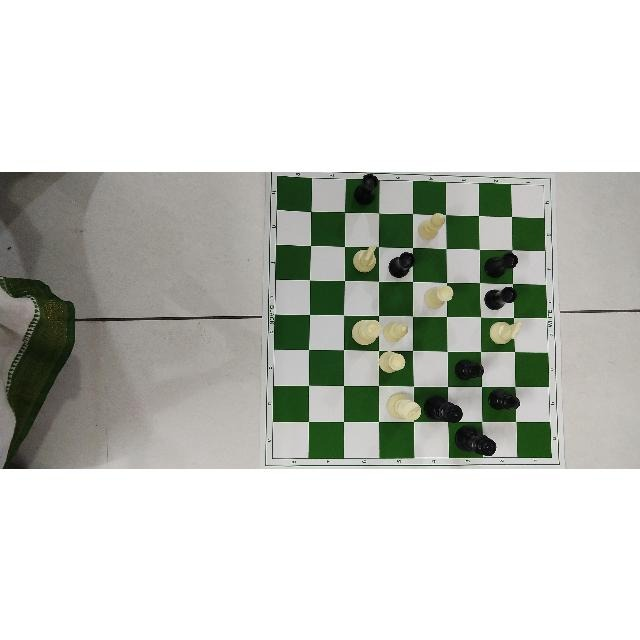black-bishop: (487, 388, 521, 410), (454, 359, 486, 381)
black-king: (424, 392, 464, 422)
black-queen: (454, 424, 496, 456)
black-rook: (484, 251, 519, 277), (484, 284, 519, 309), (354, 172, 379, 204), (388, 250, 416, 278)
white-bishop: (418, 212, 446, 238), (384, 318, 408, 341)
white-king: (386, 392, 421, 422)
white-knight: (489, 320, 523, 344), (352, 242, 378, 272)
white-queen: (351, 317, 381, 345)
white-rook: (424, 284, 454, 308), (379, 349, 405, 373)
